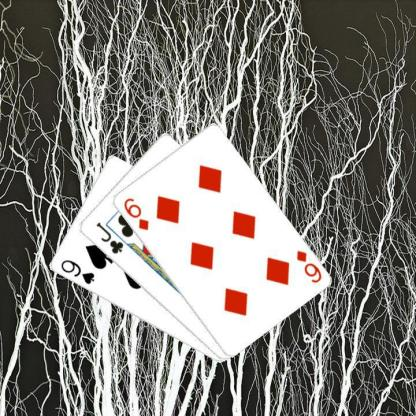6D: (293, 247, 323, 284), (121, 195, 150, 232)
9S: (58, 257, 95, 286)
JC: (93, 220, 125, 256)
